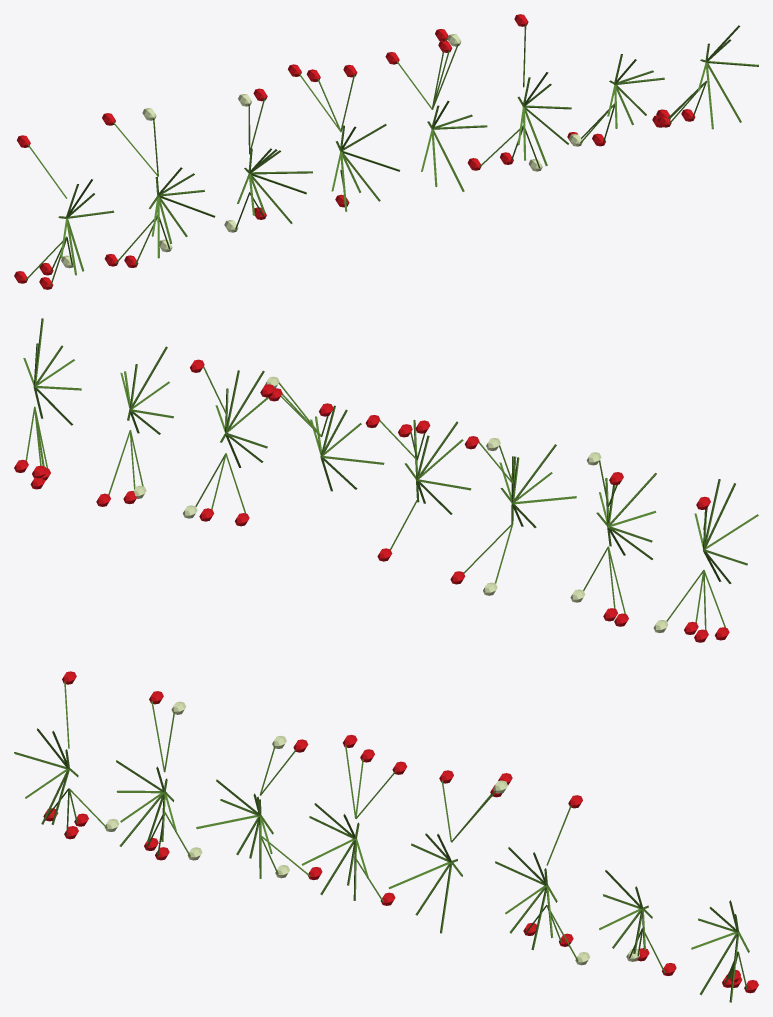
File: r29c4_rest.obj
The picture shows the model from 3 angles, top to bottom: view 1: azimuth 30°, elevation 25°; view 2: azimuth 150°, elevation 25°; view 3: azimuth 330°, elevation 25°; orthographic projection. The views are drawn at different scales.
Visible parts, largest first — view 1: r29c4_rest; view 2: r29c4_rest; view 3: r29c4_rest.
Boxes of the visible parts, x1,y1,x2,y2 form: r29c4_rest: (14,14,758,289); r29c4_rest: (14,318,758,642); r29c4_rest: (14,671,758,1002).
Size of the model in its own units: 1.94 by 0.4053 by 0.2497.
